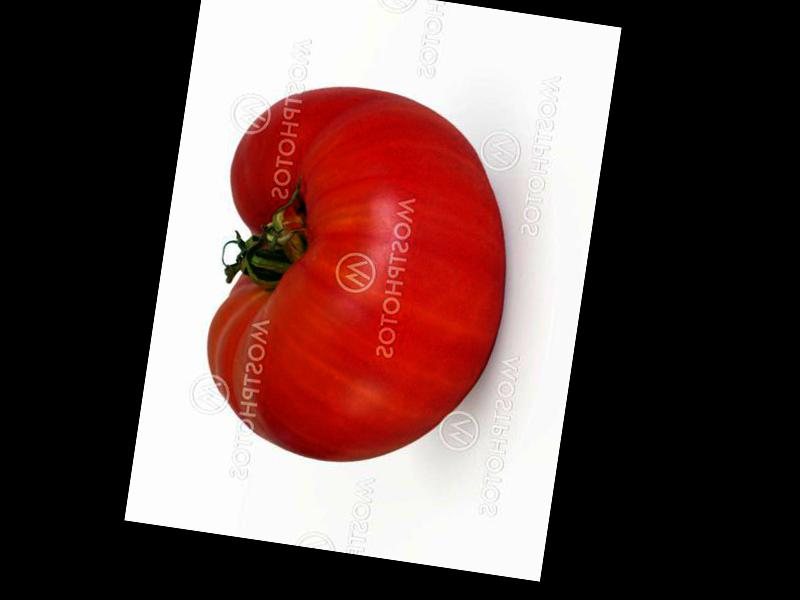Tomato: (190, 72, 529, 482)
